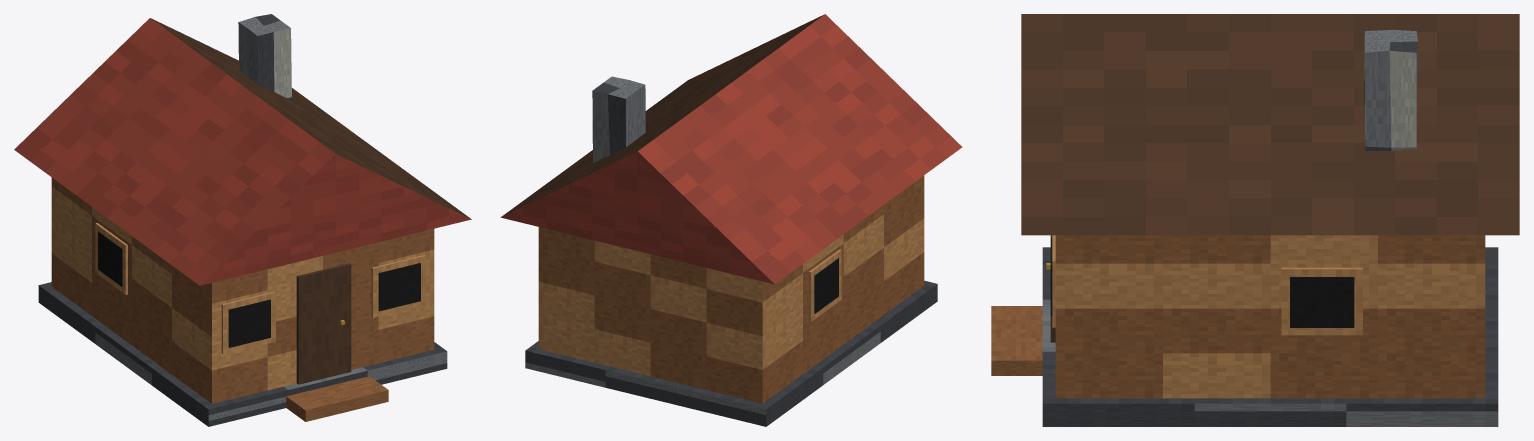
Rendered from cabin.glb.
3 renders of one model, left to right at view 1: azimuth 30°, elevation 25°; view 2: azimuth 150°, elevation 25°; view 3: azimuth 270°, elevation 25°, orthographic. The views are drawn at different scales.
Parts seen in each view (by area): view 1: cabin; view 2: cabin; view 3: cabin.
Part boxes in pixels (x1,y1,x2,y2): cabin: (14, 14, 471, 426); cabin: (500, 14, 962, 426); cabin: (991, 14, 1519, 426).
Bounding box in the file's own units: 4.9 × 4.52 × 6.15.
1 material, 1 textured.
